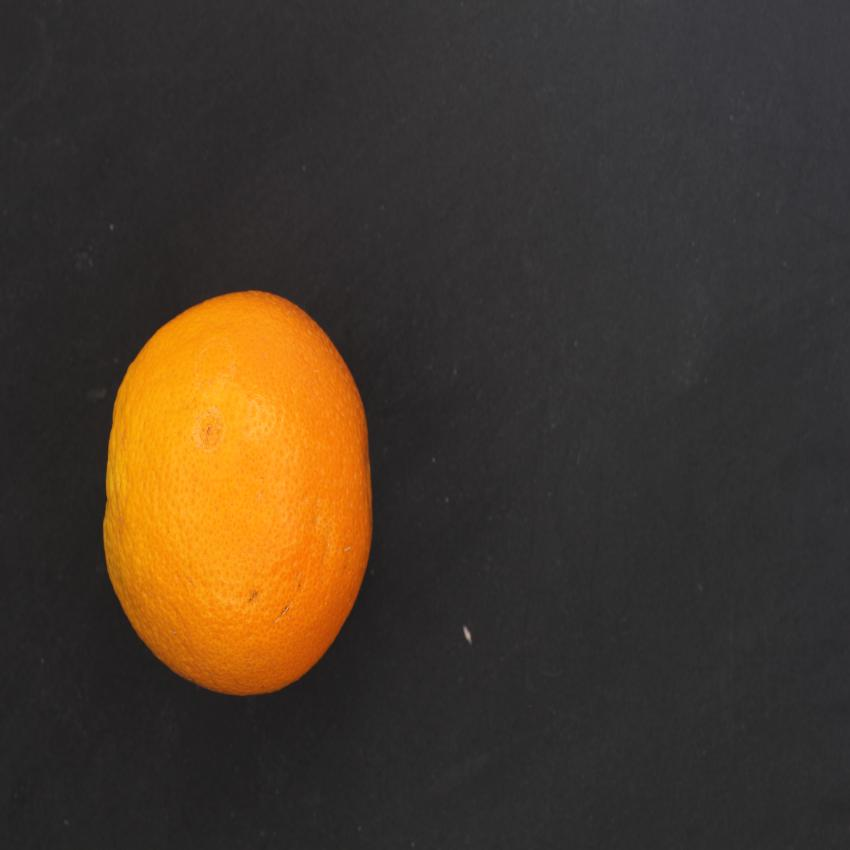Buen estado: (90, 284, 400, 711)
